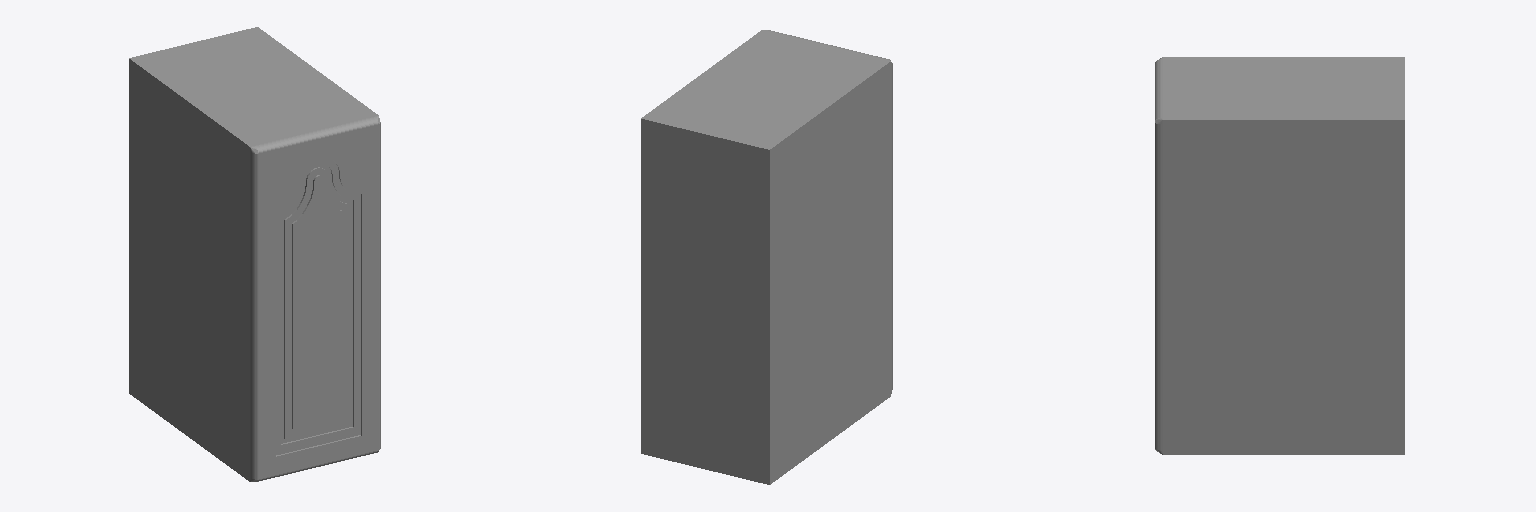
Rendered from single-base-unit-350.obj.
3 renders of one model, left to right at view 1: azimuth 30°, elevation 25°; view 2: azimuth 150°, elevation 25°; view 3: azimuth 270°, elevation 25°, orthographic.
Parts seen in each view (by area): view 1: Cube.003_Cube.008, Cube.002_Cube.004, Cube_Cube.002, Cube.001_Cube.003; view 2: Cube_Cube.002, Cube.002_Cube.004, Cube.001_Cube.003, Cube.003_Cube.008; view 3: Cube.001_Cube.003, Cube_Cube.002, Cube.003_Cube.008, Cube.002_Cube.004.
Part boxes in pixels (x1,y1,x2,y2): Cube.003_Cube.008: (250, 116, 380, 481); Cube.002_Cube.004: (129, 57, 254, 481); Cube_Cube.002: (135, 28, 372, 145); Cube.001_Cube.003: (253, 27, 378, 116); Cube_Cube.002: (646, 31, 884, 483); Cube.002_Cube.004: (764, 60, 890, 484); Cube.001_Cube.003: (641, 30, 766, 454); Cube.003_Cube.008: (765, 30, 892, 393); Cube.001_Cube.003: (1163, 117, 1404, 454); Cube_Cube.002: (1163, 60, 1404, 116); Cube.003_Cube.008: (1155, 57, 1162, 454); Cube.002_Cube.004: (1163, 57, 1404, 59).
Bounding box in the file's own units: 70 × 174 × 118.